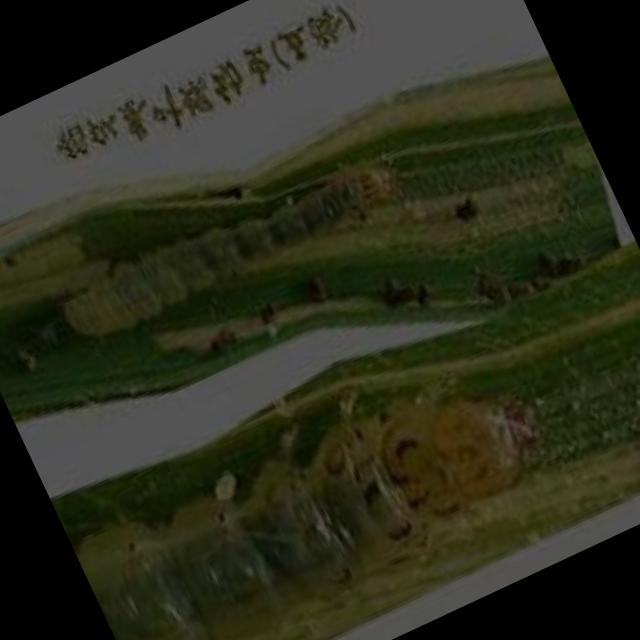leaf-folder: (64, 336, 569, 640), (54, 124, 427, 369)
